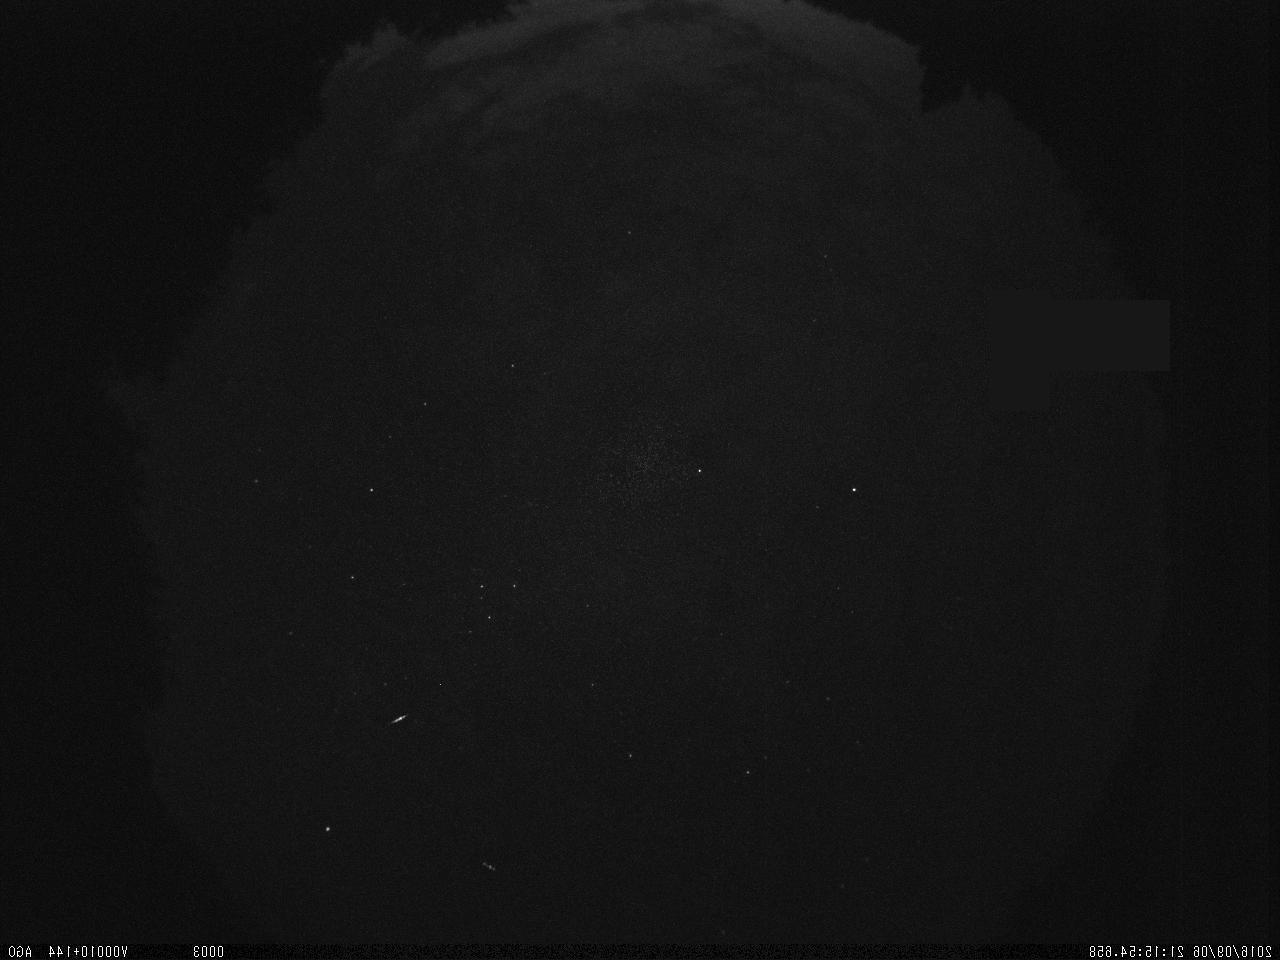meteor: (382, 699, 414, 738)
